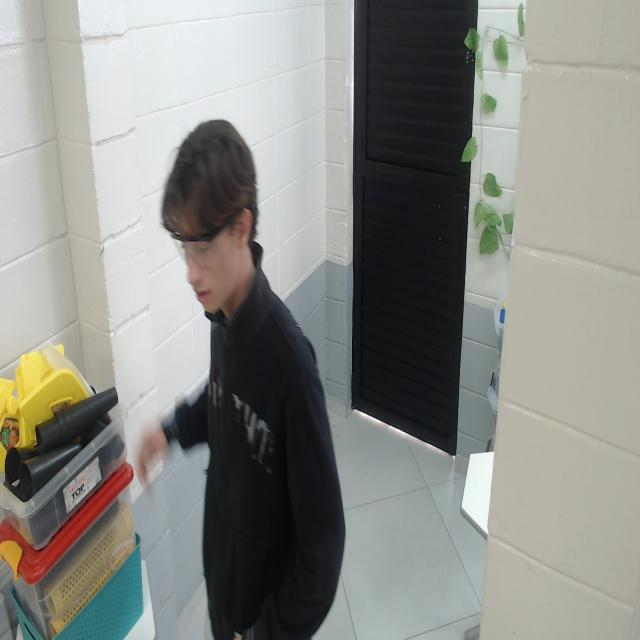oculos-epi: (168, 210, 239, 273)
